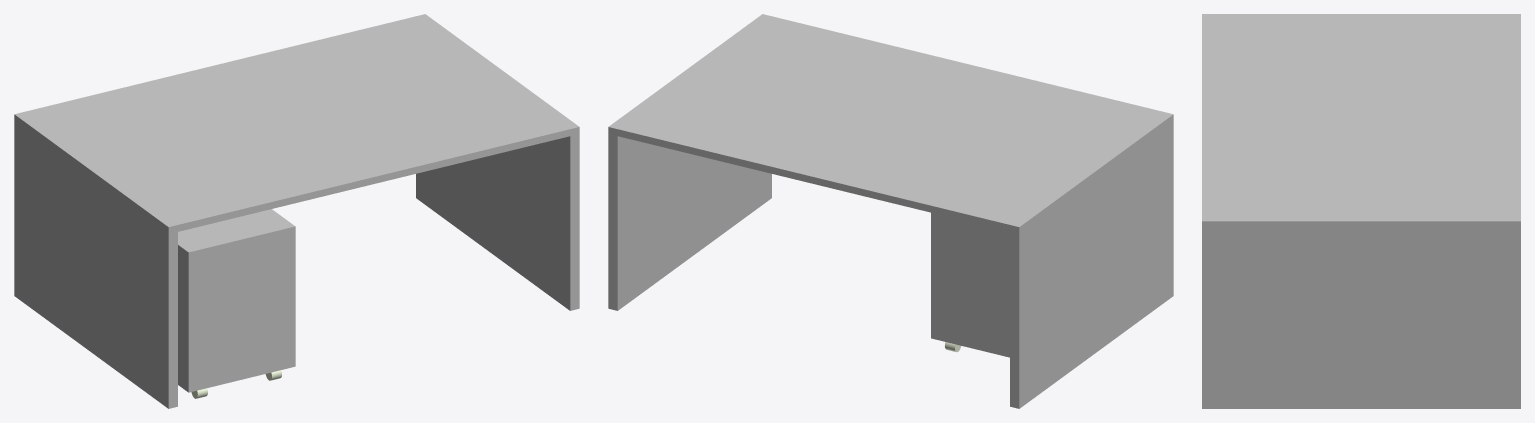
File: desk.fbx
The picture shows the model from 3 angles, left to right: view 1: azimuth 30°, elevation 25°; view 2: azimuth 150°, elevation 25°; view 3: azimuth 270°, elevation 25°; orthographic projection. The views are drawn at different scales.
Parts seen in each view (by area): view 1: obj1, obj4; view 2: obj1, obj4; view 3: obj1.
Part boxes in pixels (bbox=[...]): obj1: bbox=[14, 14, 579, 408]; obj4: bbox=[178, 209, 295, 398]; obj1: bbox=[608, 14, 1173, 408]; obj4: bbox=[931, 212, 1009, 357]; obj1: bbox=[1202, 14, 1520, 408].
Bounding box in the file's own units: 308 × 130 × 200.
Materials: 2 (1 with a texture image).
